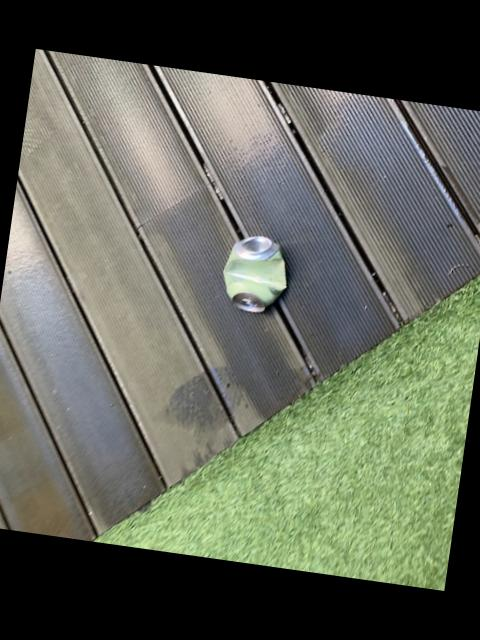metal: (222, 236, 285, 312)
